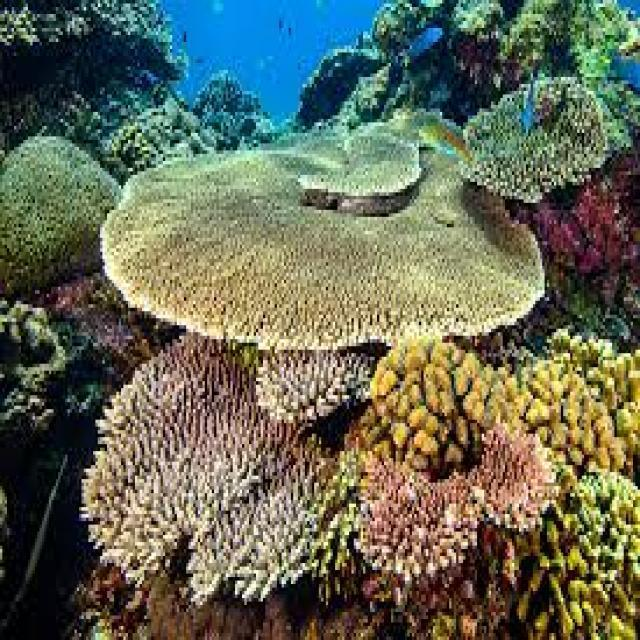Healthy Coral: (3, 86, 640, 640)
